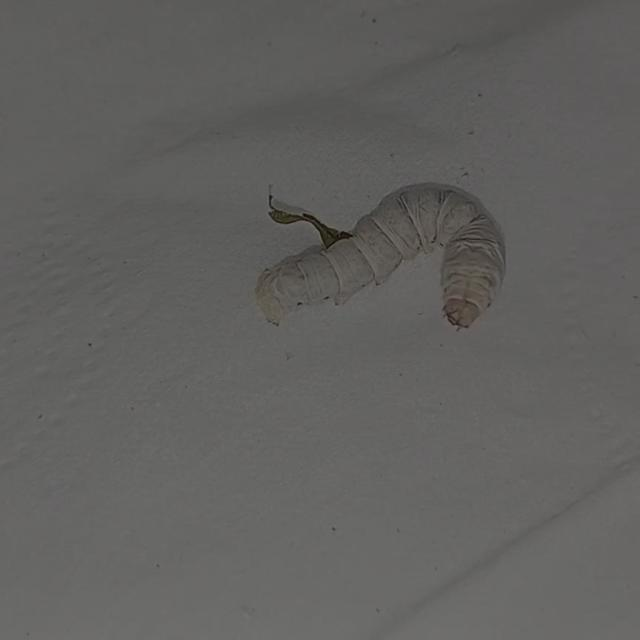Healthy: (240, 162, 522, 370)
